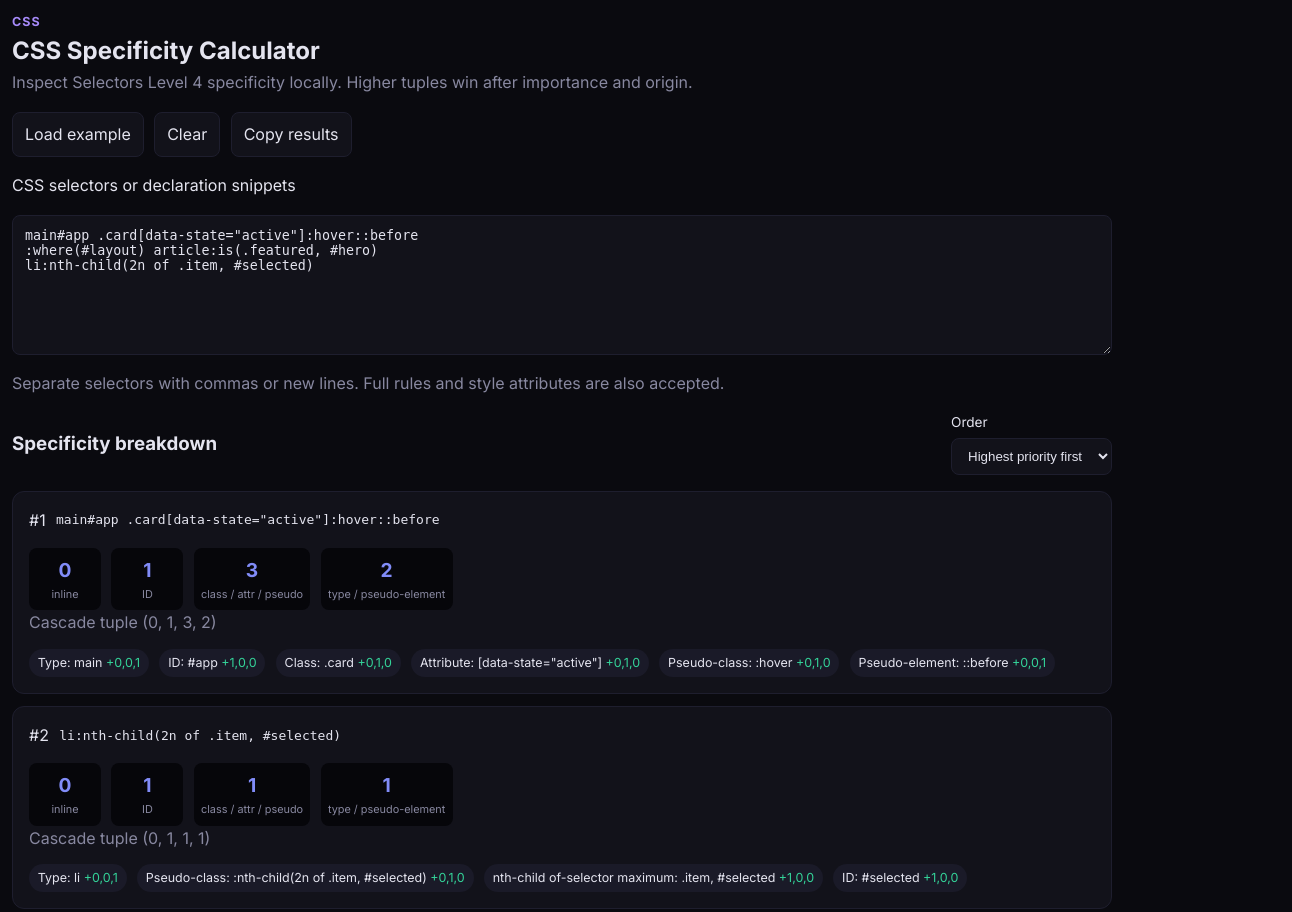
Scenario: CssSpecificityTool › sorts entered selectors and shows invalid-selector feedback
Replace the text in the text box labelled "CSS selectors or declaration snippets" with "p, #app, [" at point(562, 285), box [12,215,1112,355]
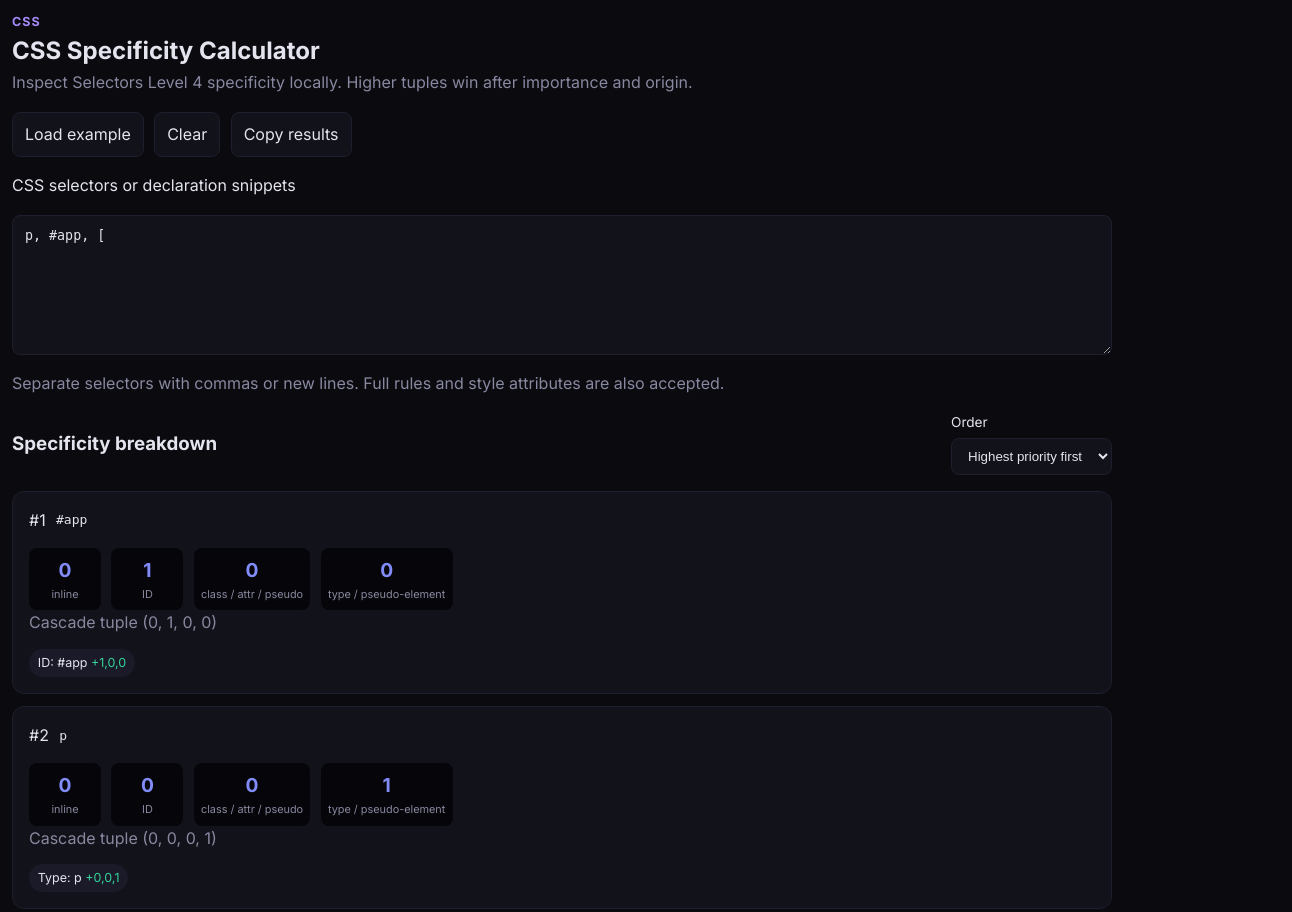
Expected: the text "#app" is shown, [56,510,87,531]
Select "Lowest priority first" in the dropdown named "Specificity sort order" at point(1032, 456), box [951,438,1112,475]
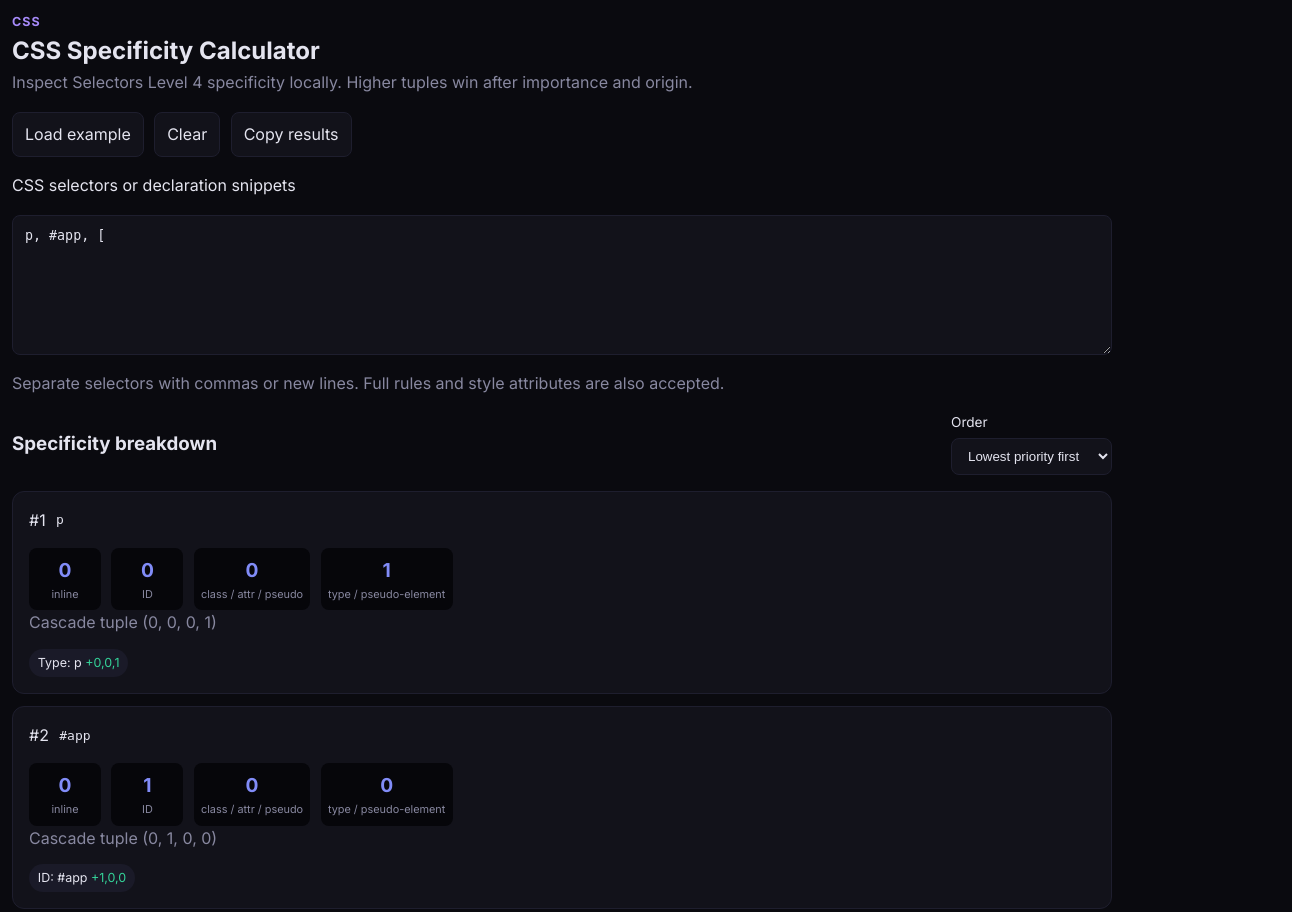
Now the text "p" is shown, box [56,510,64,531]
